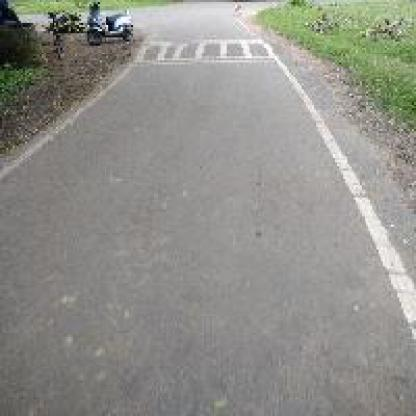Speed Bump: (129, 37, 270, 64)
